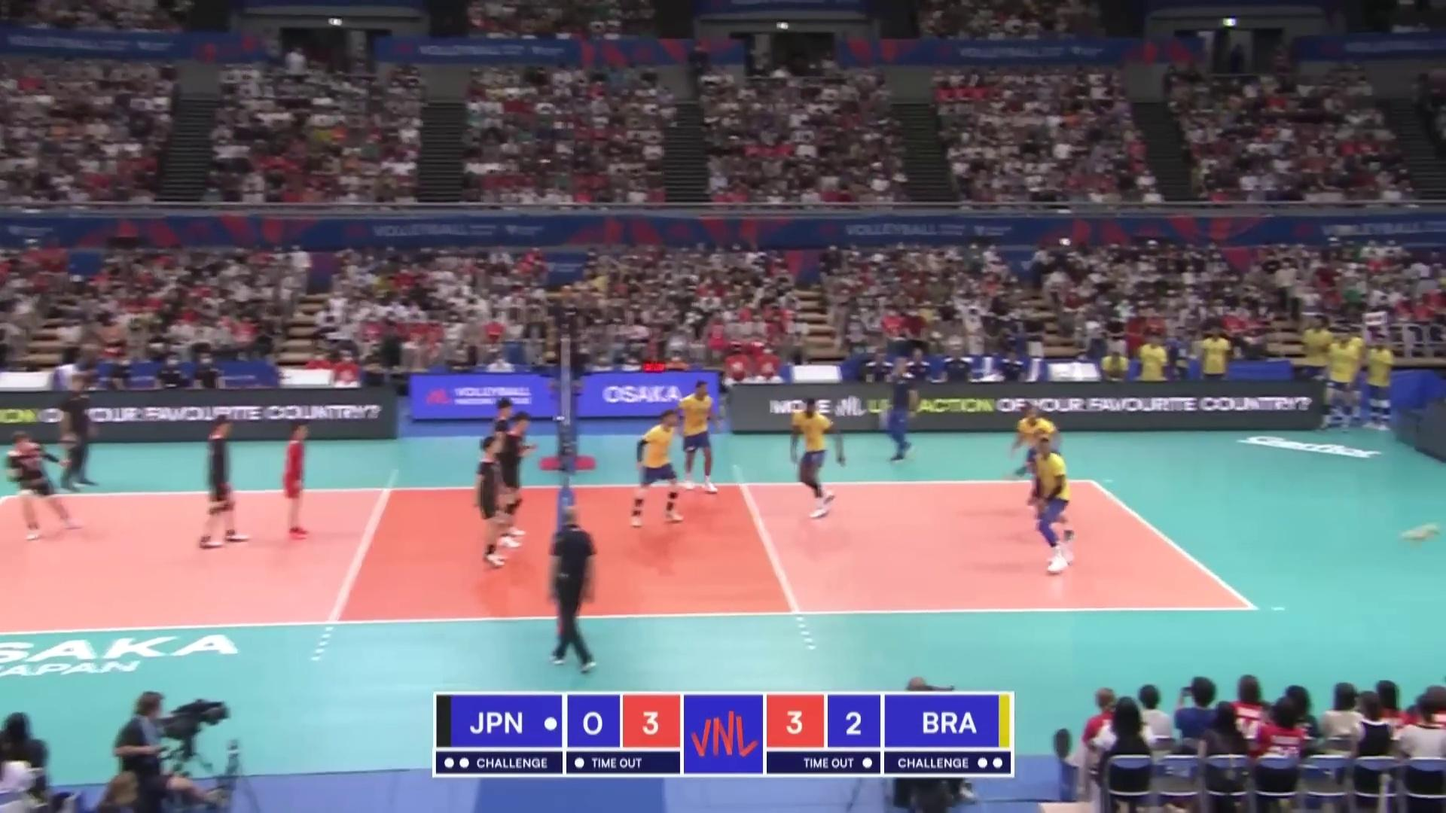player: (8, 433, 81, 538), (630, 410, 688, 529), (789, 395, 841, 521), (200, 417, 246, 551), (1035, 440, 1077, 577), (1011, 406, 1062, 512), (678, 382, 722, 492), (500, 412, 534, 547), (279, 423, 315, 537), (492, 399, 518, 529), (478, 437, 502, 569)
refree: (543, 508, 598, 670), (554, 285, 582, 387)
